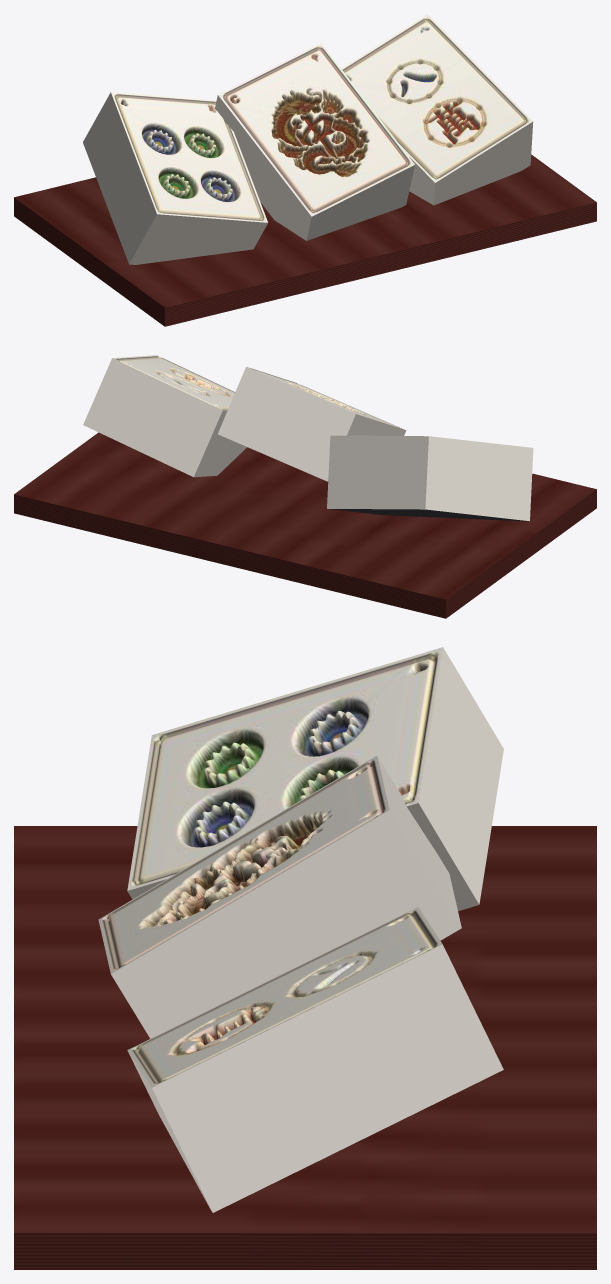
The model's file is tile_carved_intaglio_showcase_rpi.glb.
3 views of the same model, one above another, from view 1: azimuth 30°, elevation 25°; view 2: azimuth 150°, elevation 25°; view 3: azimuth 270°, elevation 25° (orthographic). The views are drawn at different scales.
Visible parts, largest first — view 1: Carved_Showcase_Plinth, Carved_Tile_dragon_red, Carved_Tile_dots_4, Carved_Tile_char_8; view 2: Carved_Showcase_Plinth, Carved_Tile_dots_4, Carved_Tile_char_8, Carved_Tile_dragon_red; view 3: Carved_Showcase_Plinth, Carved_Tile_char_8, Carved_Tile_dots_4, Carved_Tile_dragon_red.
Part boxes in pixels (x1=…): Carved_Showcase_Plinth: x1=14, y1=154, x2=596, y2=326; Carved_Tile_dragon_red: x1=215, y1=43, x2=414, y2=240; Carved_Tile_dots_4: x1=83, y1=92, x2=267, y2=264; Carved_Tile_char_8: x1=341, y1=14, x2=533, y2=205; Carved_Showcase_Plinth: x1=14, y1=432, x2=596, y2=618; Carved_Tile_dots_4: x1=327, y1=435, x2=533, y2=521; Carved_Tile_char_8: x1=83, y1=355, x2=247, y2=477; Carved_Tile_dragon_red: x1=218, y1=366, x2=406, y2=481; Carved_Showcase_Plinth: x1=14, y1=826, x2=596, y2=1269; Carved_Tile_char_8: x1=127, y1=907, x2=503, y2=1212; Carved_Tile_dots_4: x1=127, y1=647, x2=503, y2=911; Carved_Tile_dragon_red: x1=98, y1=755, x2=461, y2=1038.
Size of the model in its own units: 3.8 by 1.35 by 2.3.
10 materials, 10 textured.
